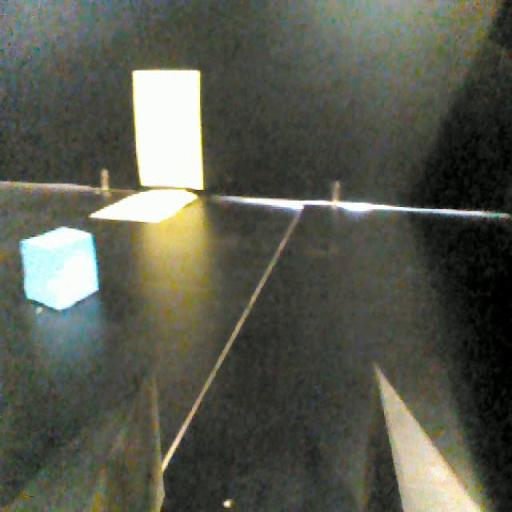cube: (18, 221, 102, 316)
